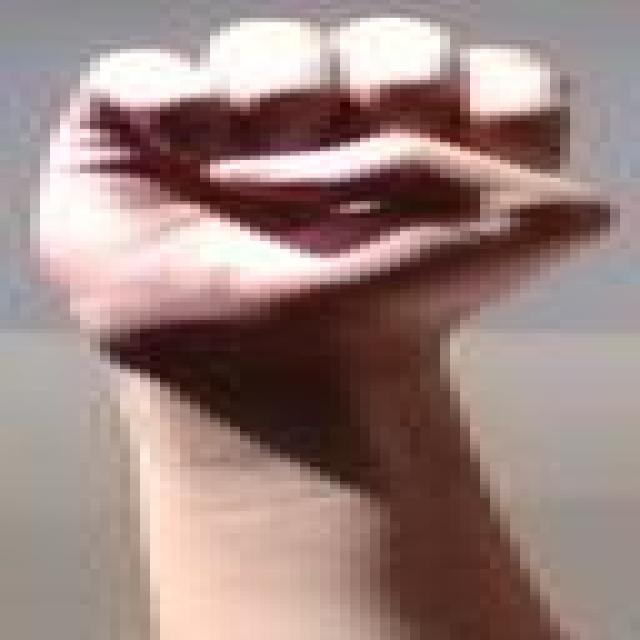E: (0, 0, 640, 350)
